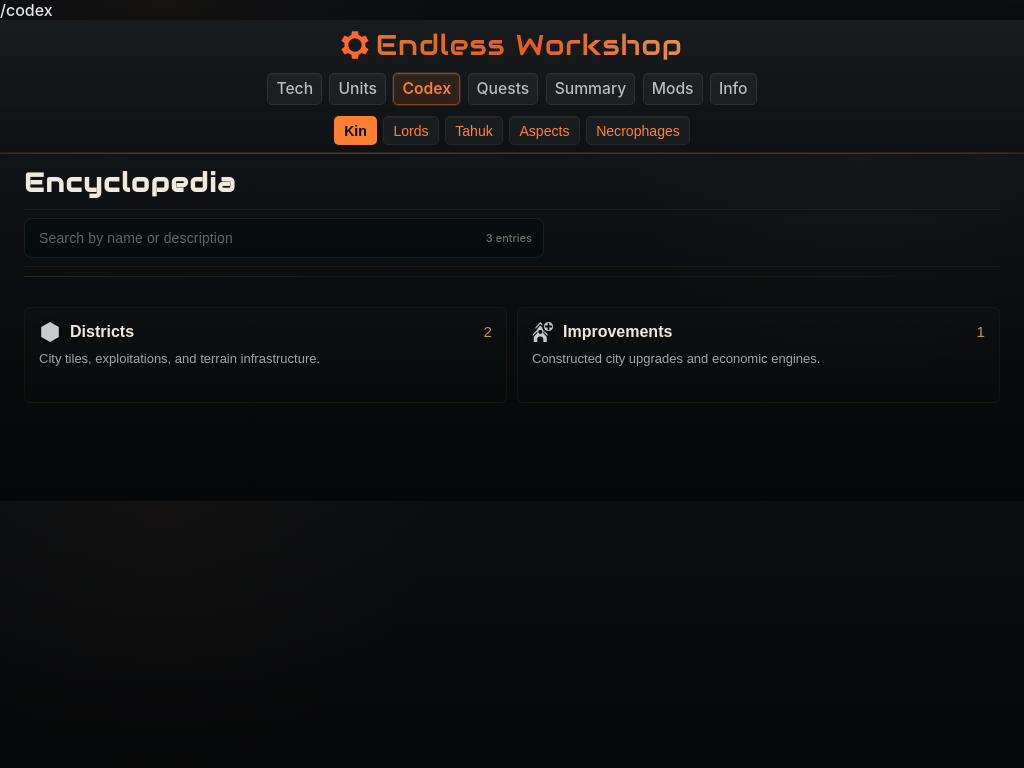
Test case: CodexPage route state › resets query, kind, and selection when navigating back to plain /codex
Click the button "Districts 2" at (266, 355), box [24,307,507,403]
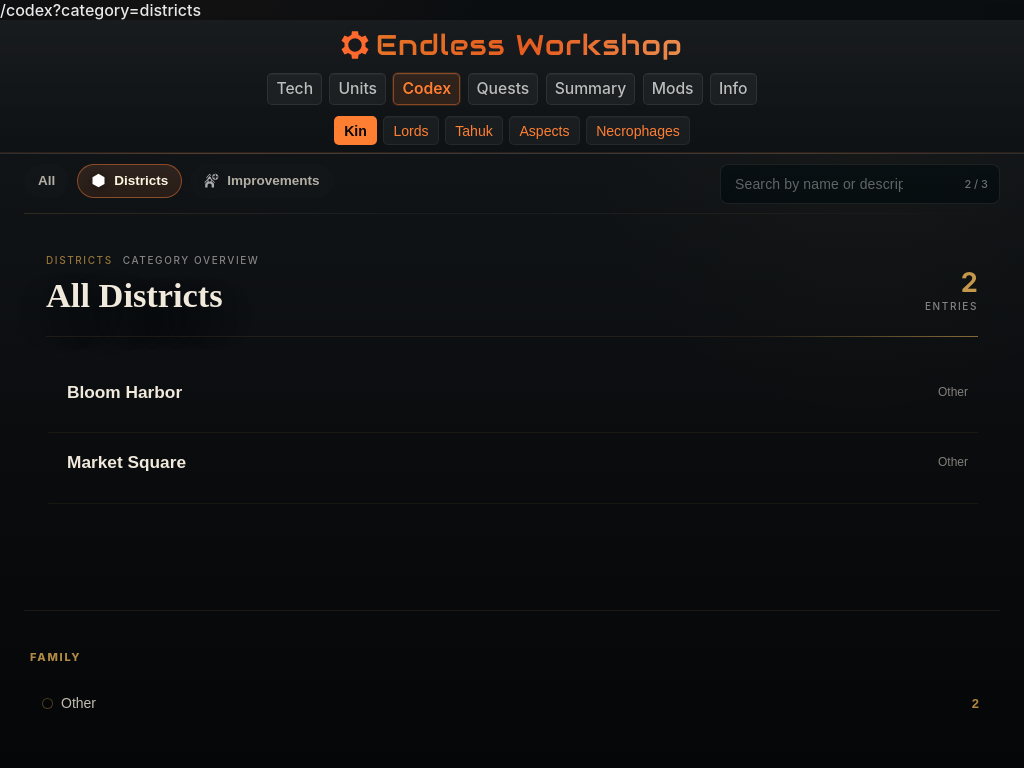
Type "market" into the dropdown named "search the encyclopedia" at (860, 184), box [720,164,1000,204]
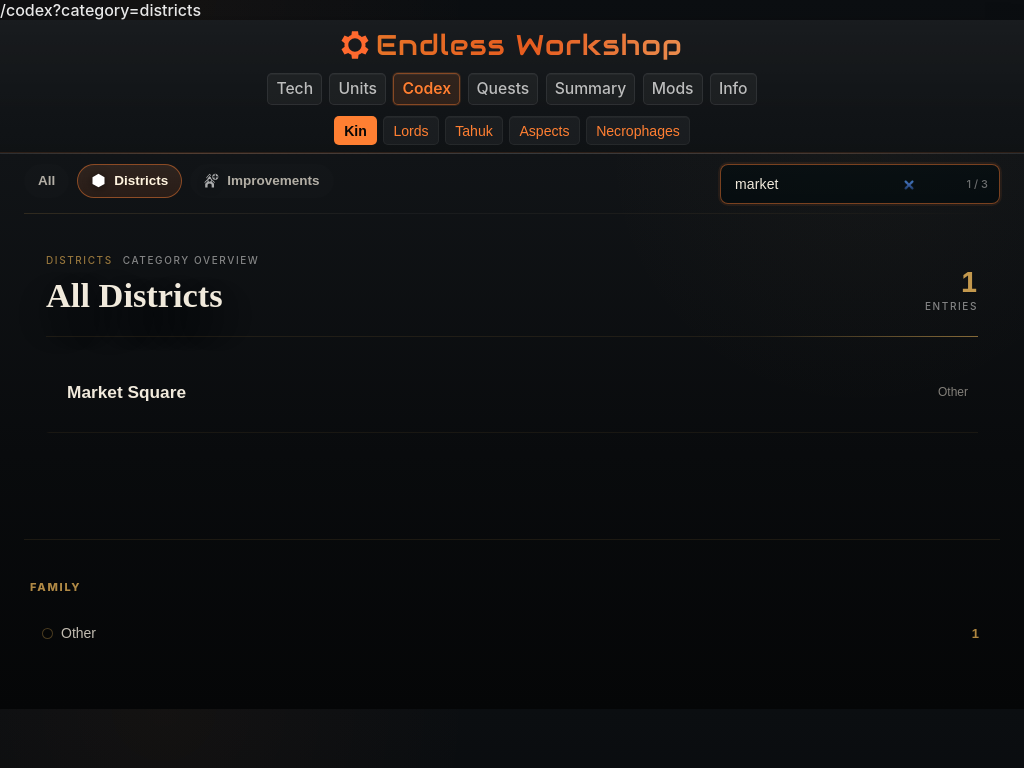
Check: the text with test id "location-probe" does not show "/codex", box [0,0,201,20]
Click the link "Codex" at (427, 89), box [393,73,460,105]
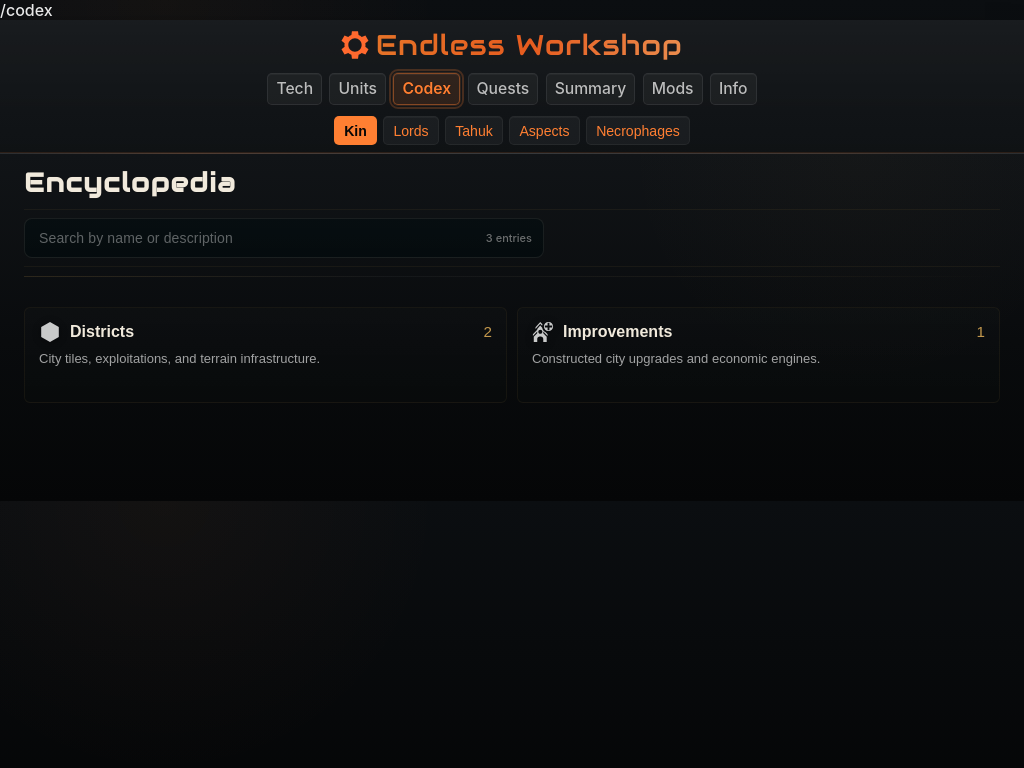
Check: the text with test id "location-probe" reads "/codex", box [0,0,53,20]
Check: the dropdown named "search the encyclopedia" is empty, box [24,218,544,258]
Check: the heading "All Districts" is gone
